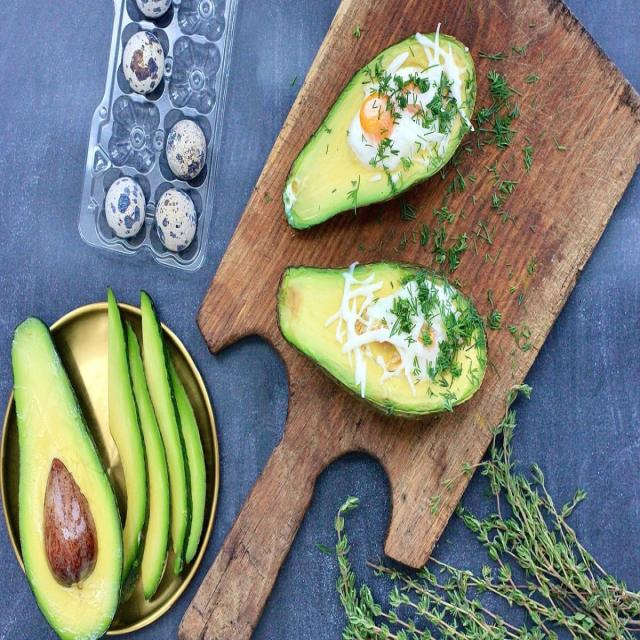aguacate: (278, 26, 482, 240), (8, 313, 134, 640), (276, 254, 491, 432)
